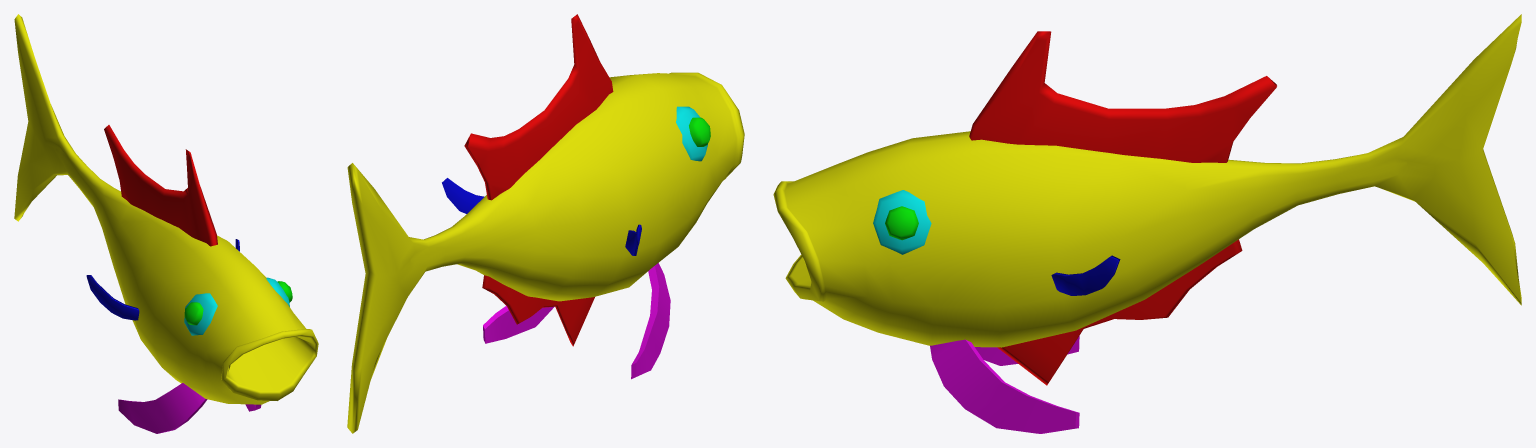
3 views of the same model, side by side, from view 1: azimuth 30°, elevation 25°; view 2: azimuth 150°, elevation 25°; view 3: azimuth 270°, elevation 25° (orthographic). The views are drawn at different scales.
Visible parts, largest first — view 1: polySurface9; view 2: polySurface9; view 3: polySurface9.
Part boxes in pixels (x1,y1,x2,y2): polySurface9: [14, 14, 318, 433]; polySurface9: [347, 14, 744, 433]; polySurface9: [773, 14, 1521, 433].
Size of the model in its own units: 2.57 by 4.45 by 7.86.
